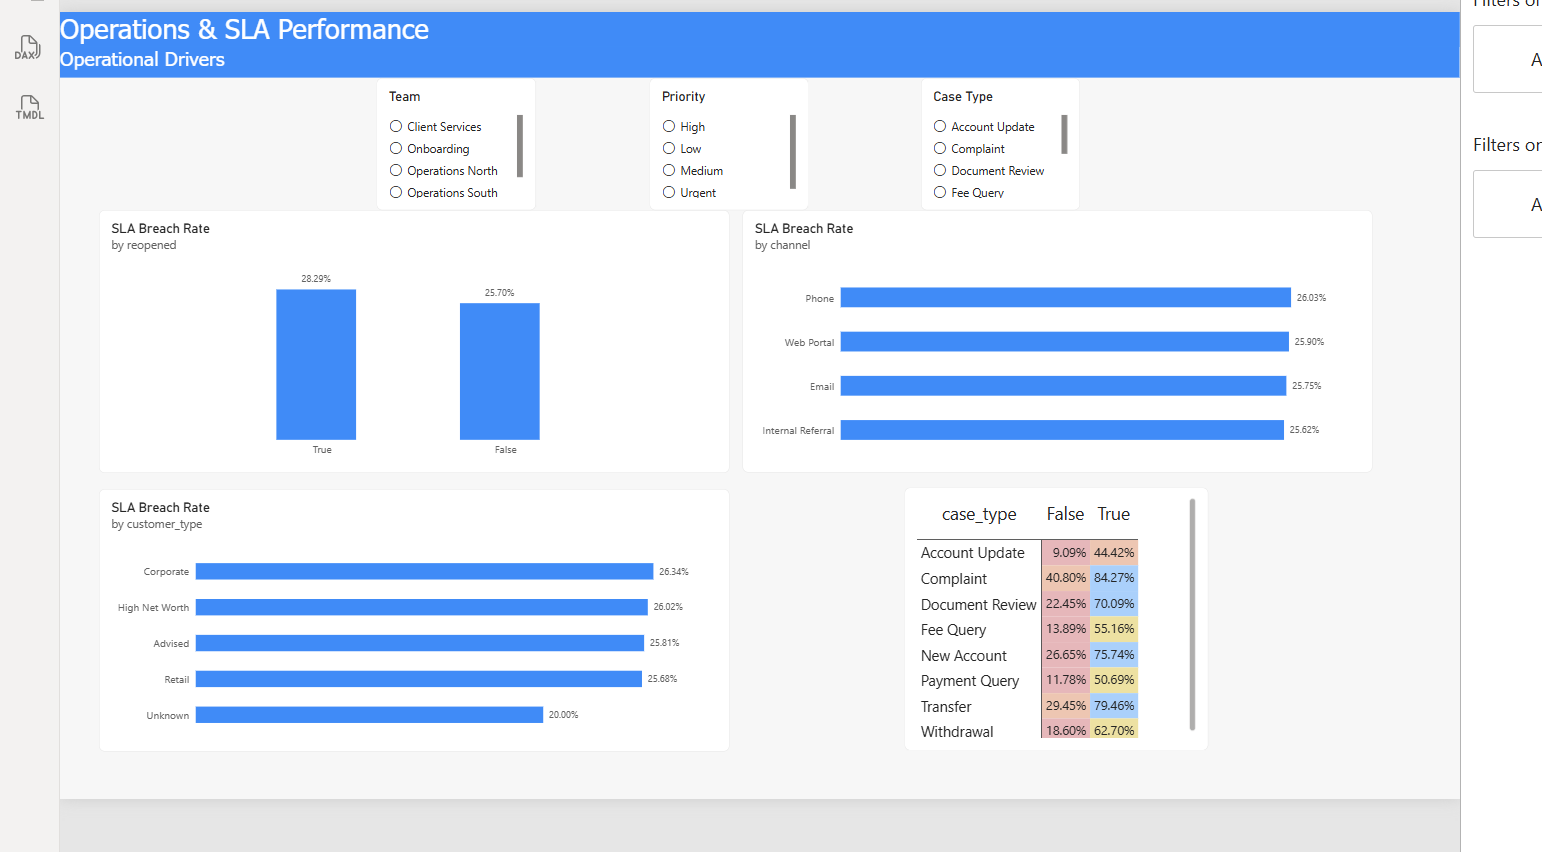

The dashboard page shown, as its layout file describes it:
{"tool":"powerbi","page":{"name":"Operational Drivers","canvas":[1920,1080],"ordinal":3},"visuals":[{"type":"clusteredColumnChart","fields":{"Category":["analysis_cases (002).reopened"],"Y":["analysis_cases (002).SLA Breach Rate"]},"box":[54.2,270.9,864.8,360.5],"z":0},{"type":"clusteredBarChart","fields":{"Category":["analysis_cases (002).channel"],"Y":["analysis_cases (002).SLA Breach Rate"]},"box":[935.7,270.9,864,360],"z":1000},{"type":"clusteredBarChart","fields":{"Category":["analysis_cases (002).customer_type"],"Y":["analysis_cases (002).SLA Breach Rate"]},"box":[54.2,654.4,864.8,360],"z":2000},{"type":"pivotTable","title":"SLA Breach Rate by Case Type & Escalation","fields":{"Columns":["analysis_cases (002).escalated"],"Rows":["analysis_cases (002).case_type"],"Values":["analysis_cases (002).SLA Breach Rate"]},"box":[1158.7,652.3,416.8,360.5],"z":3000},{"type":"listSlicer","fields":{"Values":["analysis_cases (002).team"]},"box":[433.5,89.6,218.8,181.3],"z":4000,"group":"g1"},{"type":"listSlicer","fields":{"Values":["analysis_cases (002).priority"]},"box":[806.9,89.8,218,181],"z":5000,"group":"g1"},{"type":"listSlicer","fields":{"Values":["analysis_cases (002).case_type"]},"box":[1179.6,89.6,218,181.3],"z":6000,"group":"g1"},{"type":"shape","title":"Operations & SLA Performance","box":[0,0,1919.3,90],"z":6001},{"type":"group","id":"g1","title":"Group 1","box":[433.5,89.6,964.9,181.3],"z":6002}]}

Visuals, with their boxes on the page's 1920x1080 design canvas (x1, y1, x2, y2). These are canvas units, not pixel positions in the 1542x852 screenshot, which may show the page scaled, cropped or inside an application window:
clusteredColumnChart - analysis_cases (002).reopened x analysis_cases (002).SLA Breach Rate: {"x1": 54, "y1": 271, "x2": 919, "y2": 631}
clusteredBarChart - analysis_cases (002).channel x analysis_cases (002).SLA Breach Rate: {"x1": 936, "y1": 271, "x2": 1800, "y2": 631}
clusteredBarChart - analysis_cases (002).customer_type x analysis_cases (002).SLA Breach Rate: {"x1": 54, "y1": 654, "x2": 919, "y2": 1014}
"SLA Breach Rate by Case Type & Escalation" pivotTable: {"x1": 1159, "y1": 652, "x2": 1576, "y2": 1013}
listSlicer - analysis_cases (002).team: {"x1": 434, "y1": 90, "x2": 652, "y2": 271}
listSlicer - analysis_cases (002).priority: {"x1": 807, "y1": 90, "x2": 1025, "y2": 271}
listSlicer - analysis_cases (002).case_type: {"x1": 1180, "y1": 90, "x2": 1398, "y2": 271}
"Operations & SLA Performance" shape: {"x1": 0, "y1": 0, "x2": 1919, "y2": 90}
"Group 1" group: {"x1": 434, "y1": 90, "x2": 1398, "y2": 271}
